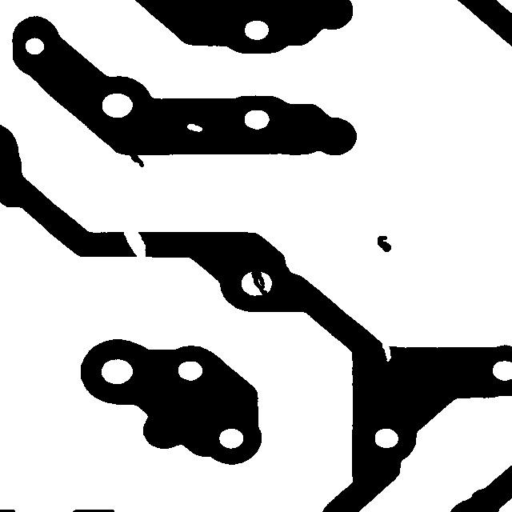copper: (370, 228, 398, 259)
mousebite: (374, 335, 398, 369)
open: (114, 212, 153, 266)
pin-hole: (179, 116, 210, 139)
short: (243, 260, 274, 303)
spur: (122, 145, 151, 174)
